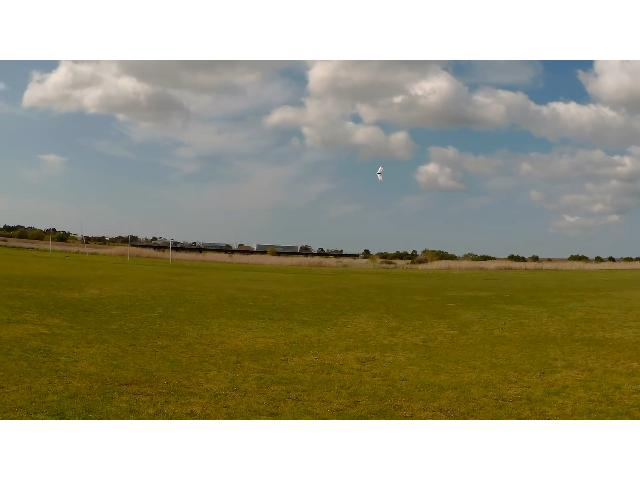Anti-Drone: (376, 166, 384, 182)
